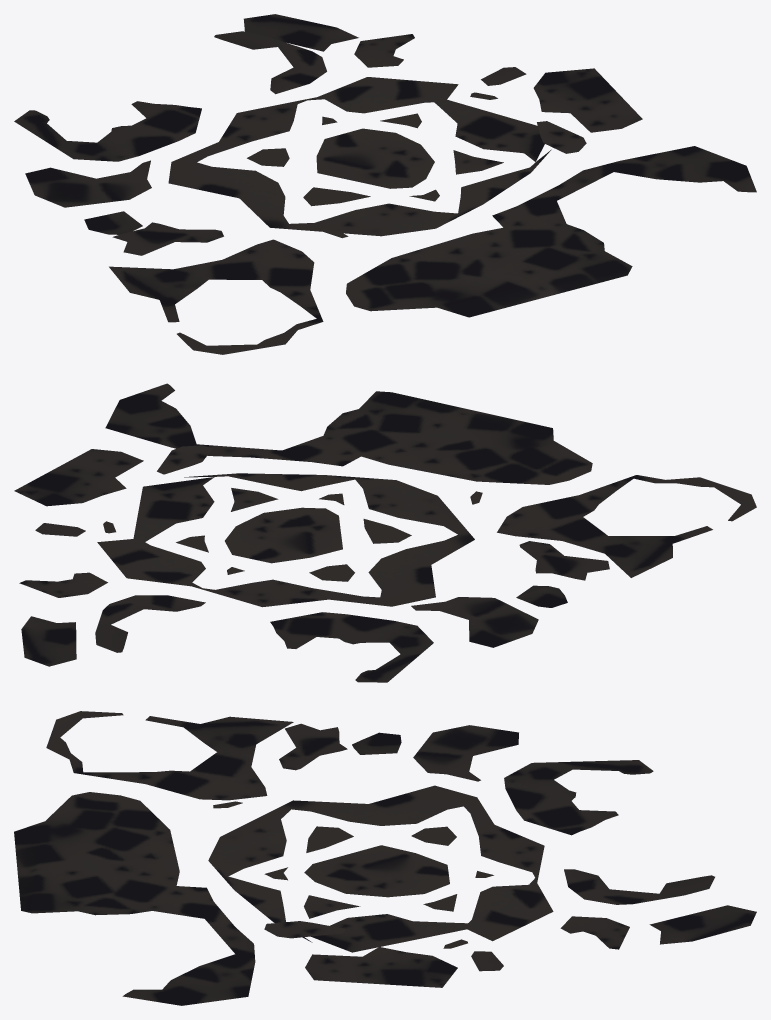
Rendered from Ground_07.FBX.
The picture shows the model from 3 angles, top to bottom: view 1: azimuth 30°, elevation 25°; view 2: azimuth 150°, elevation 25°; view 3: azimuth 270°, elevation 25°; orthographic projection. The views are drawn at different scales.
Visible parts, largest first — view 1: Ground_07; view 2: Ground_07; view 3: Ground_07.
Boxes of the visible parts, box(x1,y1,x2,y2) form: Ground_07: box(14, 14, 756, 354); Ground_07: box(14, 383, 756, 682); Ground_07: box(14, 711, 756, 1005).
Size of the model in its own units: 17.31 by 0.7 by 18.44.
